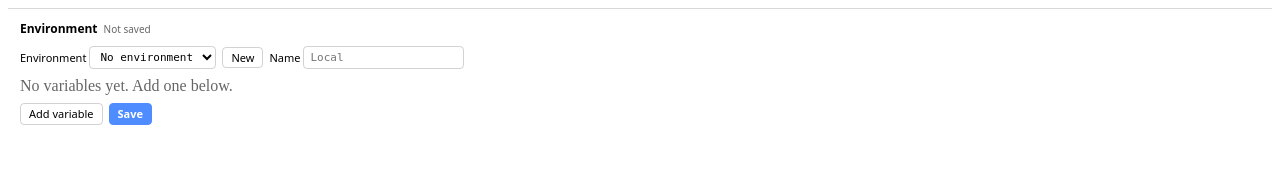
EnvironmentPanel › saves edits through the seam and reports success
This screenshot has width=1280, height=196.
Select "Local" in the dropdown labelled "Environment" at [153, 58], box 89,46 -> 216,69
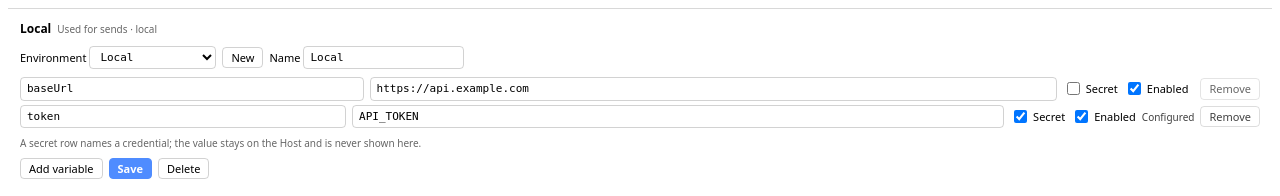
Now the field labelled "Name" holds "Local", box 303,46 -> 464,69
Replace the text in the 1st field named "Value" with "https://staging.example.com" at [713, 89], box 370,77 -> 1057,101
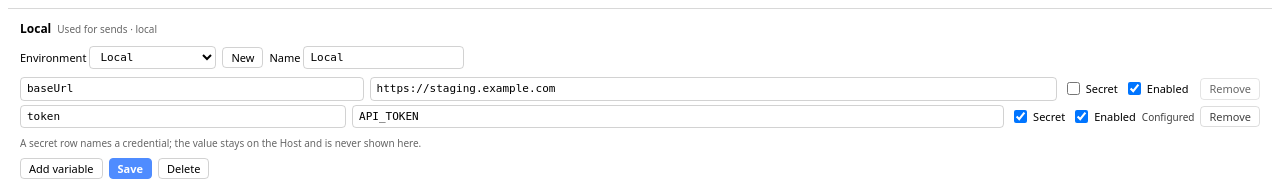
Click the button "Save".
click(130, 169)  # box 108,158 -> 152,179
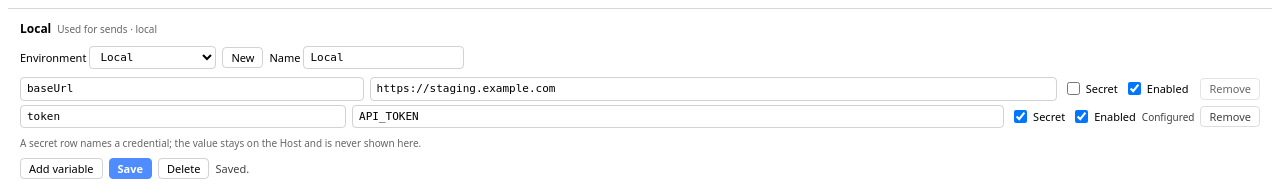
Now the message "Saved." is shown, box 216,161 -> 249,176
